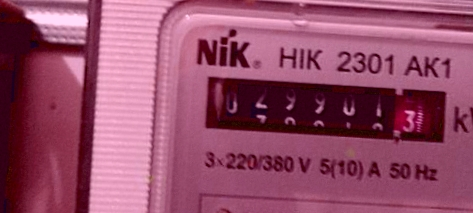0: (222, 87, 241, 116), (341, 89, 359, 119)
1: (372, 90, 387, 119)
2: (252, 83, 272, 112)
3: (400, 107, 418, 134)
9: (282, 85, 300, 113), (313, 88, 328, 116)
screen: (195, 66, 459, 155)
